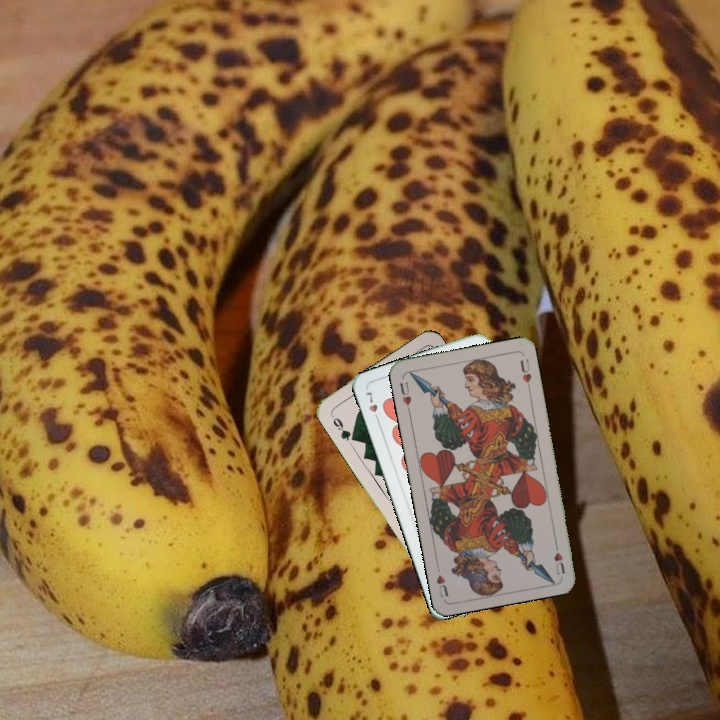G9: (327, 409, 358, 444)
H7: (362, 388, 382, 426)
HU: (395, 378, 414, 415), (550, 537, 567, 577)
